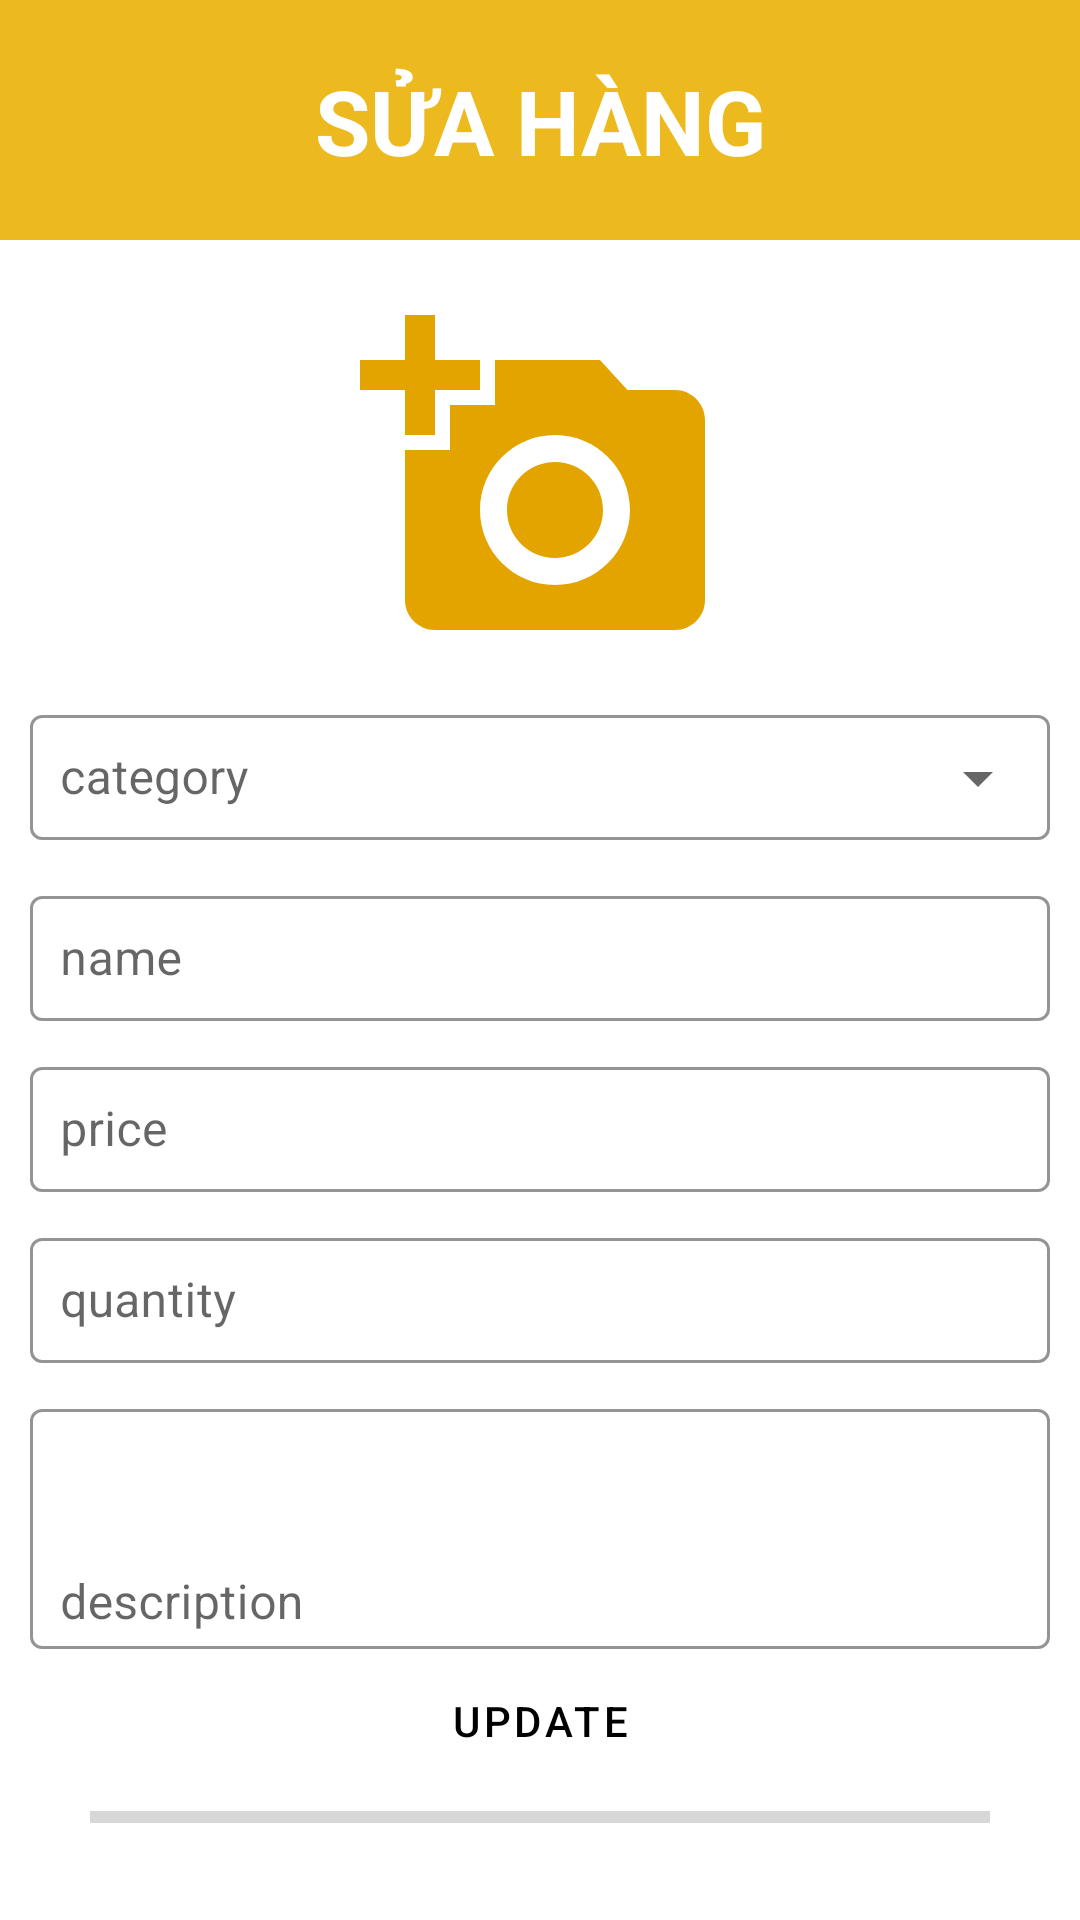

Screen size 1080×1920. Icon name, then its center in pixels as (x=x, y=y):
add photo: (x=532, y=472)
